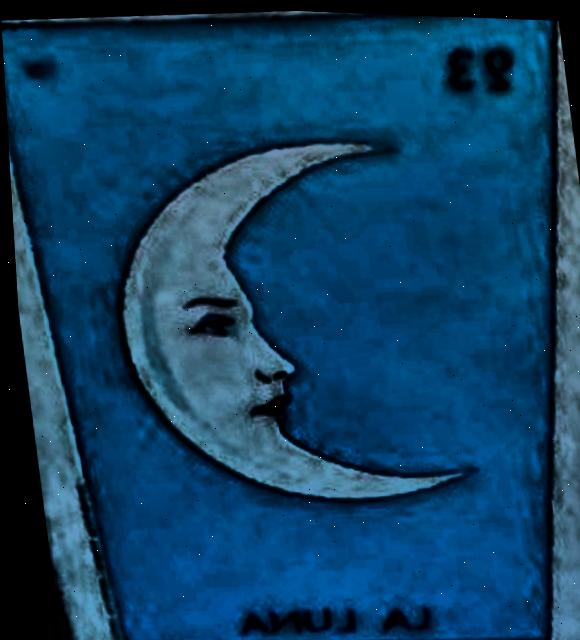La Luna: (1, 11, 554, 640)
